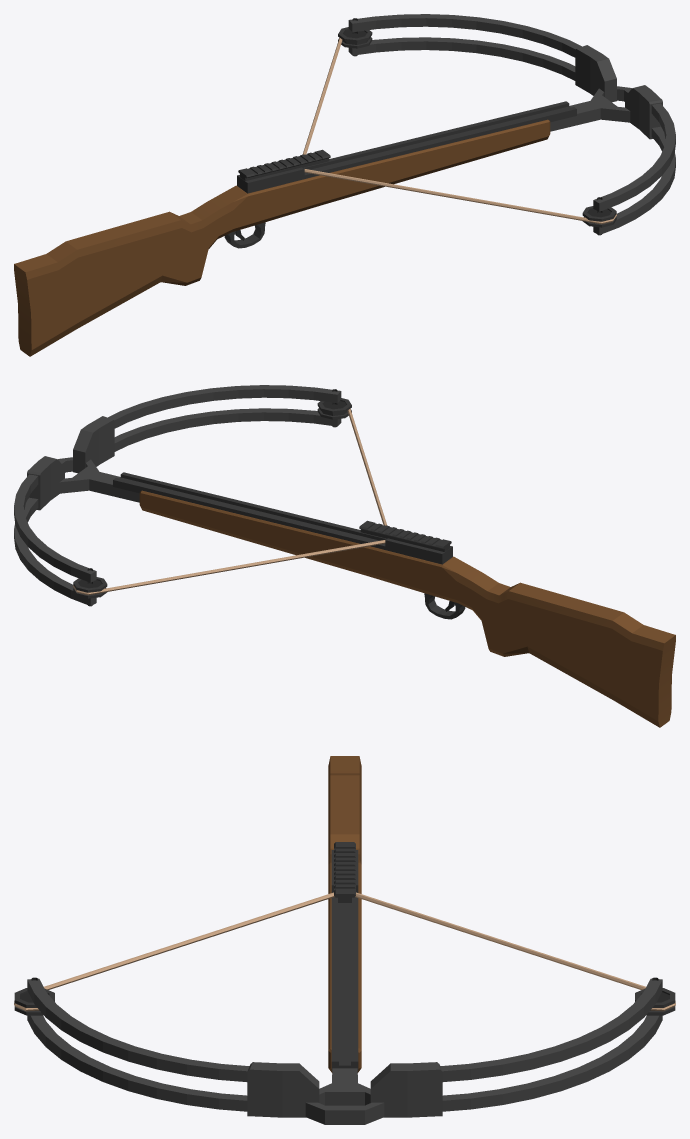
Rendered from Crossbow_01.fbx.
3 renders of one model, top to bottom at view 1: azimuth 30°, elevation 25°; view 2: azimuth 150°, elevation 25°; view 3: azimuth 270°, elevation 25°, orthographic. The views are drawn at different scales.
Visible parts, largest first — view 1: Crossbow_01; view 2: Crossbow_01; view 3: Crossbow_01.
Part boxes in pixels (x1,y1,x2,y2): Crossbow_01: (14, 14, 675, 356); Crossbow_01: (14, 385, 675, 727); Crossbow_01: (14, 756, 675, 1124).
Bounding box in the file's own units: 102 × 21.08 × 74.03.
